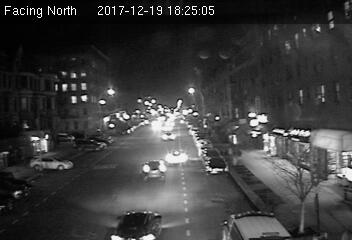car: (109, 207, 162, 240), (141, 160, 167, 181), (206, 158, 230, 176), (165, 150, 187, 166), (161, 132, 176, 141)
police: (215, 209, 292, 240)
